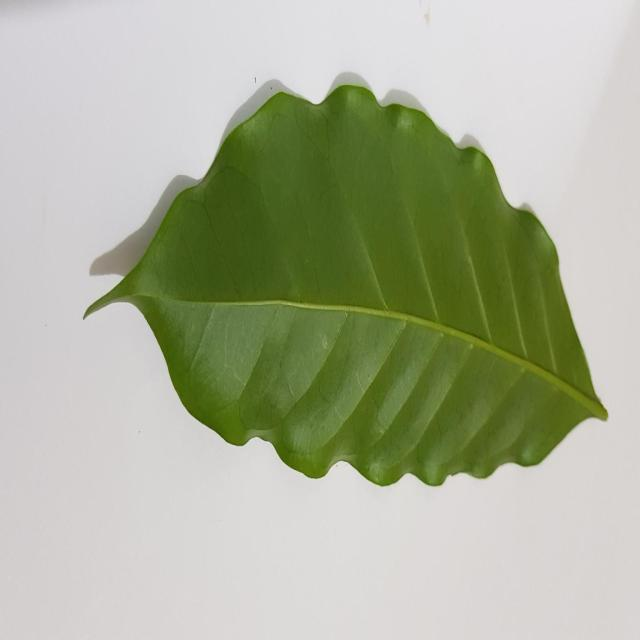Sanas: (85, 78, 610, 489)
